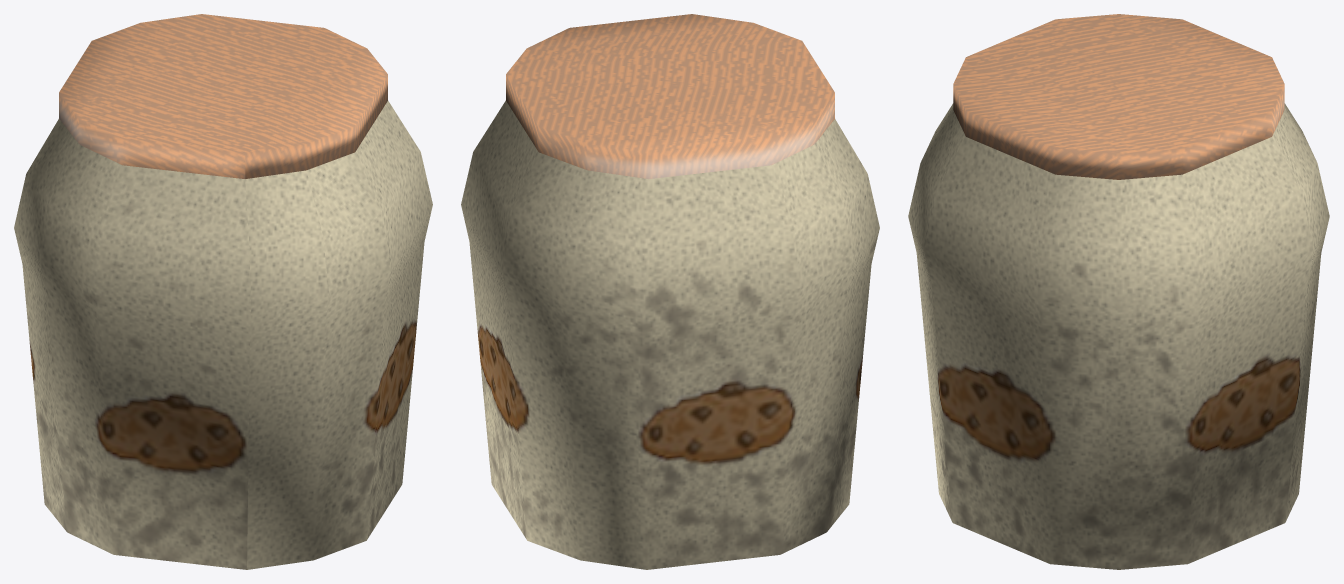
The model's file is CookieJar.fbx.
The picture shows the model from 3 angles, left to right: view 1: azimuth 30°, elevation 25°; view 2: azimuth 150°, elevation 25°; view 3: azimuth 270°, elevation 25°; orthographic projection.
Parts seen in each view (by area): view 1: Mesh_CookieJar; view 2: Mesh_CookieJar; view 3: Mesh_CookieJar.
Boxes of the visible parts, x1,y1,x2,y2 form: Mesh_CookieJar: [14, 14, 432, 569]; Mesh_CookieJar: [461, 14, 879, 569]; Mesh_CookieJar: [908, 14, 1329, 569].
Size of the model in its own units: 1.11 by 1.19 by 1.11.
Materials: 1 (1 with a texture image).
